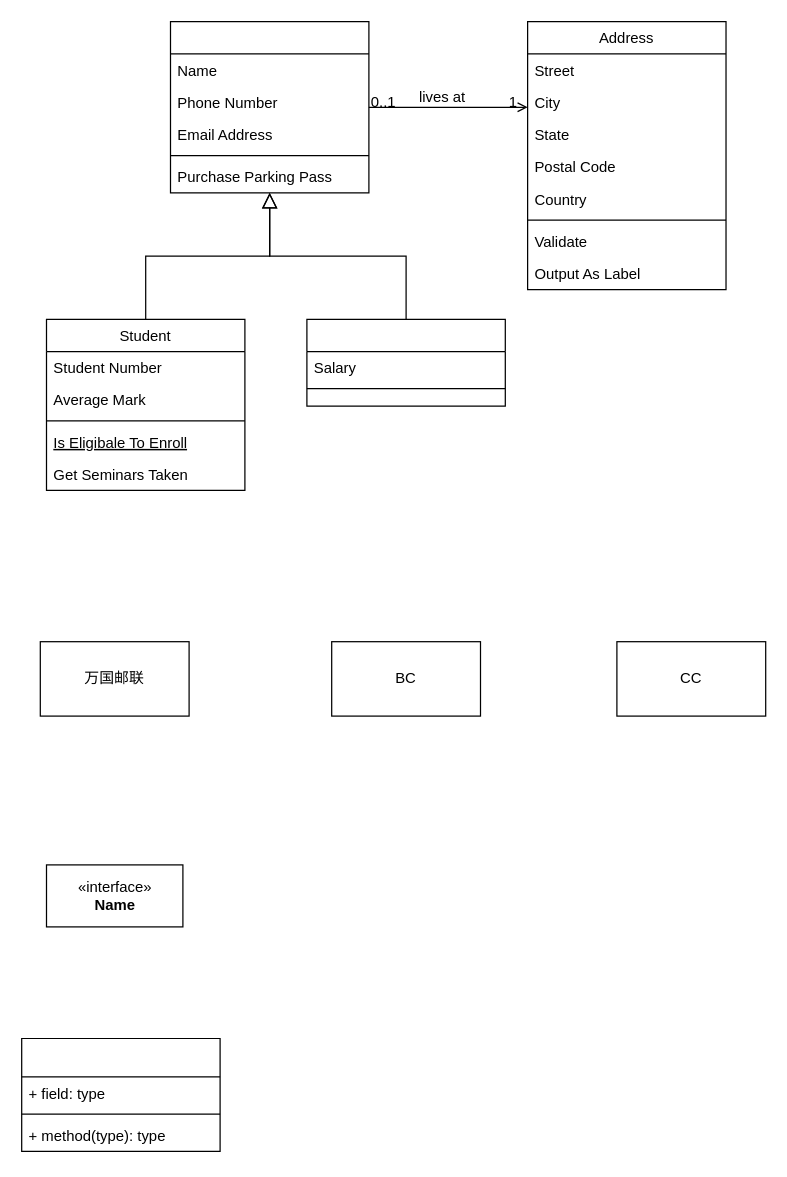
The diagram is 787 pixels wide and 1177 high, and some of its shapes have lost their labels. The shapes that lost their labels are listed below. From the top down, each one's box as (x1, y1, x2, y2) in pixels, then its label:
(169, 20, 369, 193): Person
(306, 318, 505, 406): Professor
(20, 1037, 220, 1151): Classname
